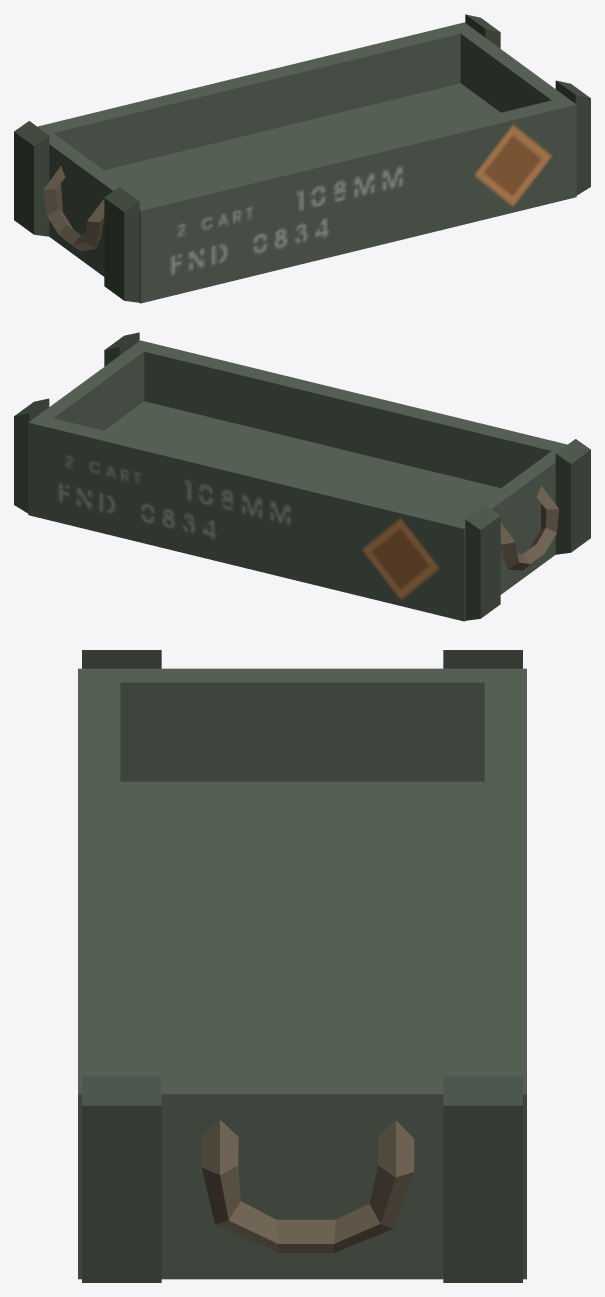
The model's file is SM_Prop_Crate_Ammo_02.glb.
3 views of the same model, one above another, from view 1: azimuth 30°, elevation 25°; view 2: azimuth 150°, elevation 25°; view 3: azimuth 270°, elevation 25° (orthographic). The views are drawn at different scales.
Visible parts, largest first — view 1: SM_Prop_Crate_Ammo_02; view 2: SM_Prop_Crate_Ammo_02; view 3: SM_Prop_Crate_Ammo_02.
Boxes of the visible parts, x1=… form: SM_Prop_Crate_Ammo_02: x1=14, y1=14, x2=590, y2=303; SM_Prop_Crate_Ammo_02: x1=14, y1=332, x2=590, y2=621; SM_Prop_Crate_Ammo_02: x1=78, y1=650, x2=526, y2=1282.
Bounding box in the file's own units: 1.24 × 0.2537 × 0.5095.
1 material, 1 textured.
